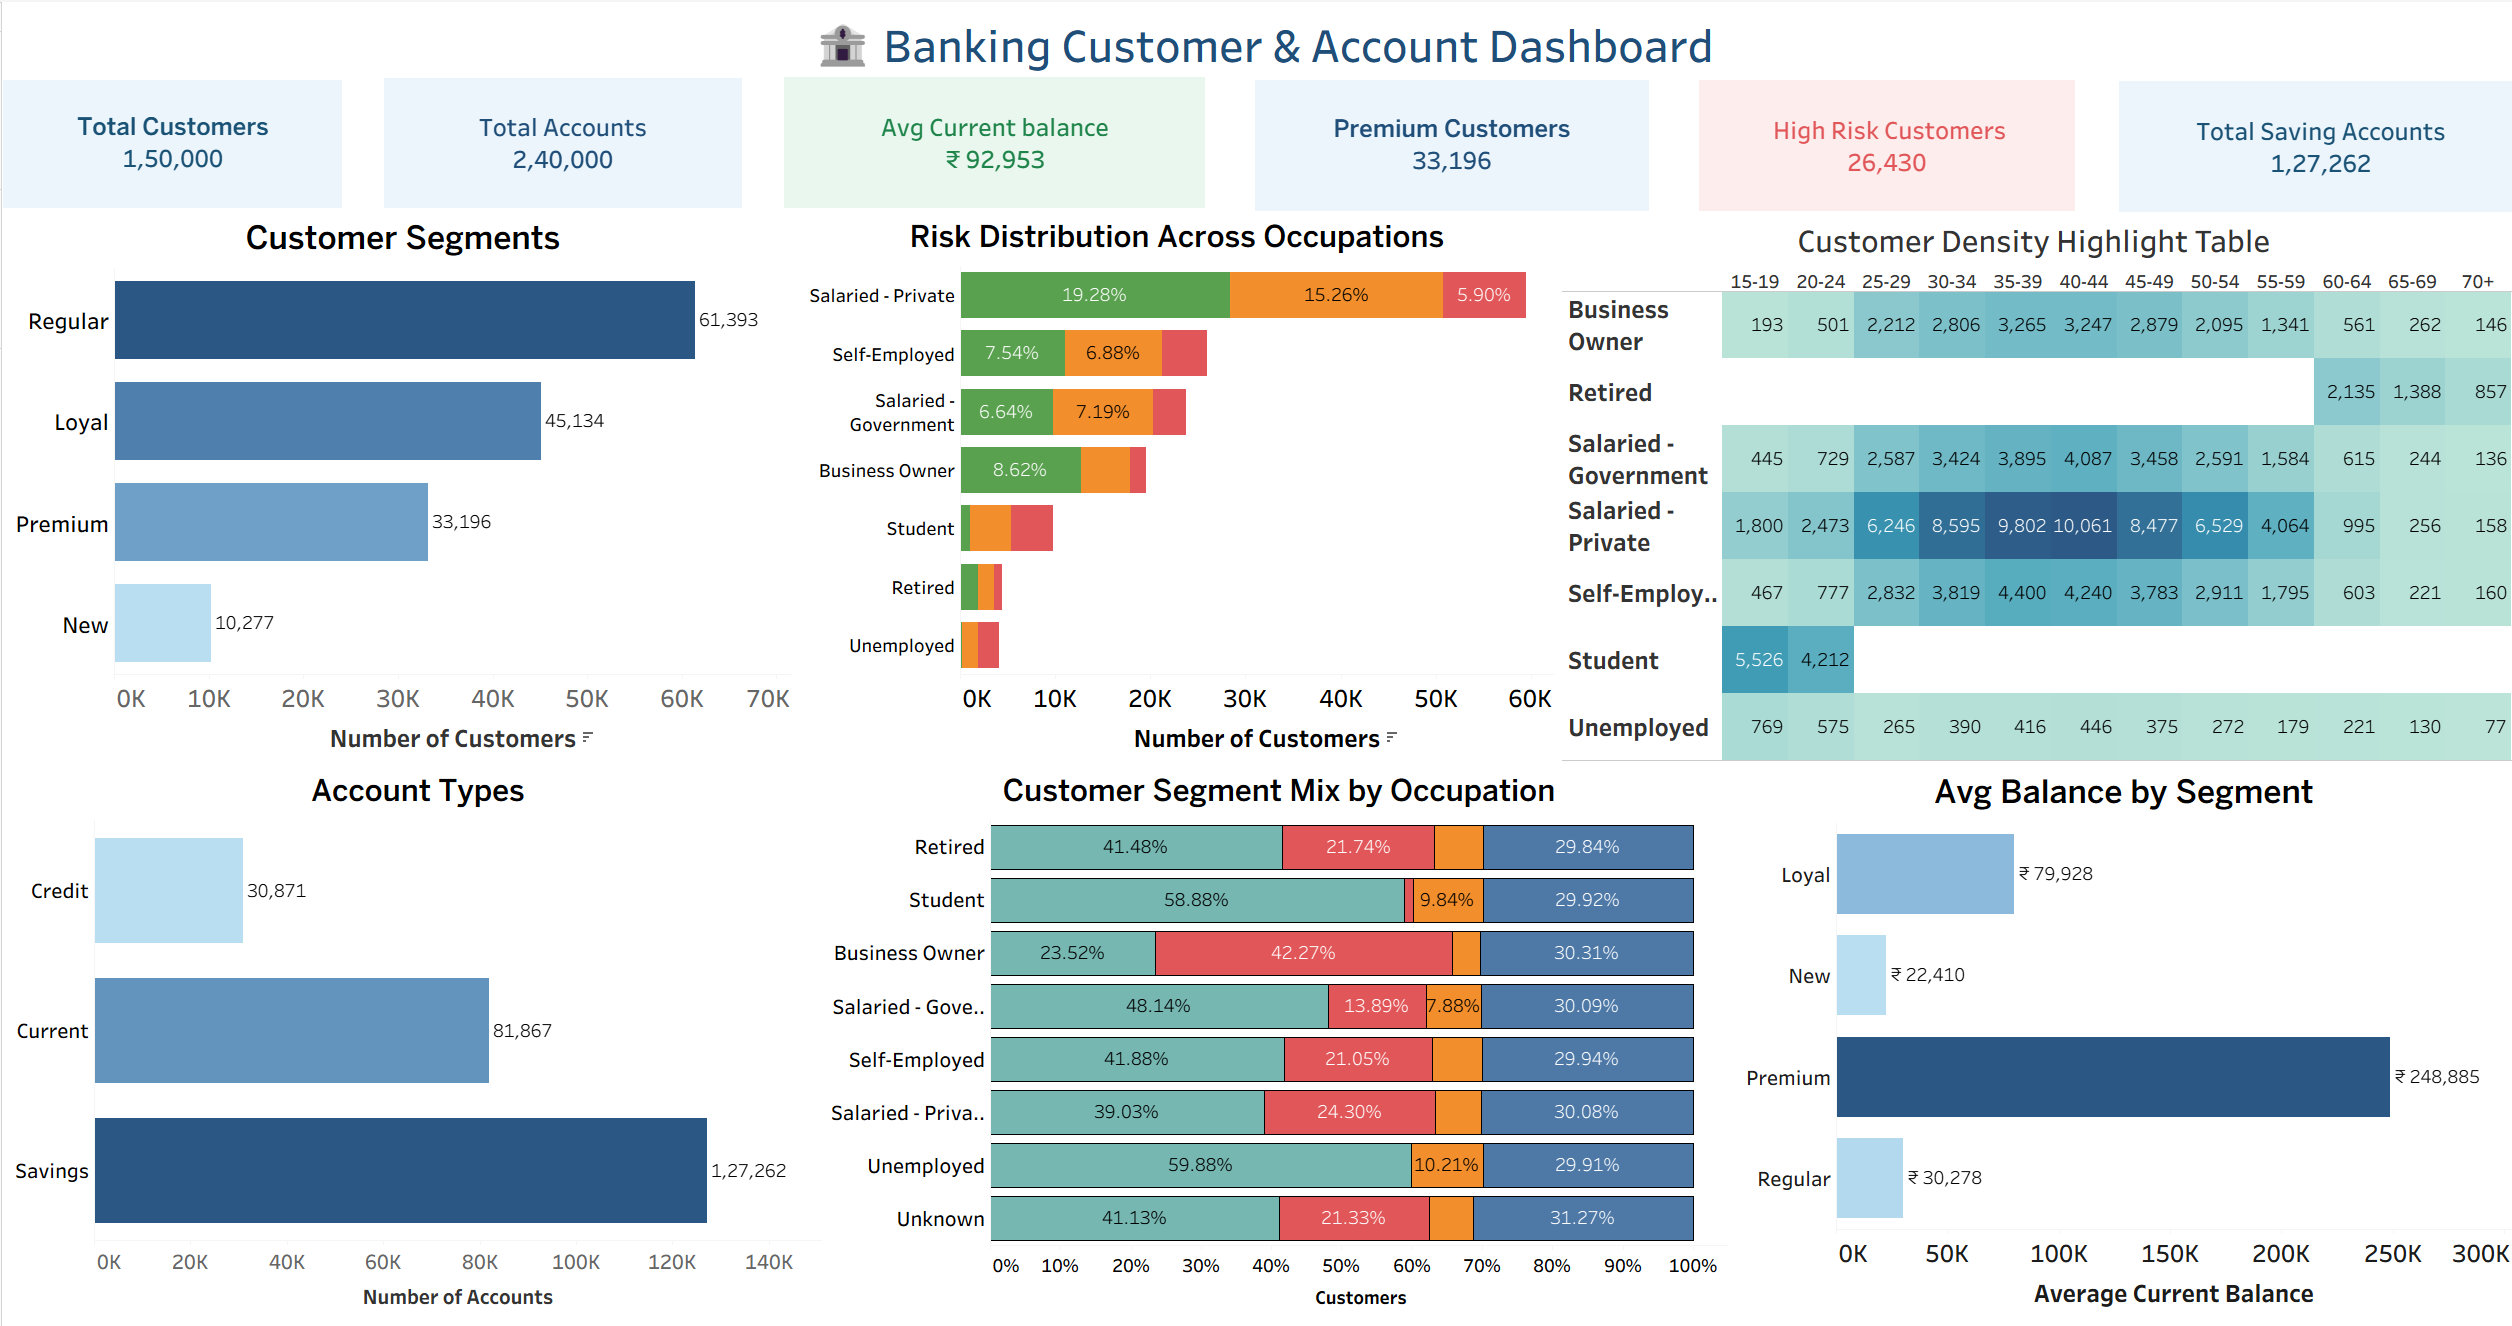

The dashboard page shown, as its layout file describes it:
{"tool":"tableau","page":{"name":"Dashboard 1","canvas":[1000,1000],"units":"permille","ordinal":0},"visuals":[{"type":"title","box":[3.2,6,993.7,51.3]},{"type":"worksheet","title":"KPI Avg Current Balance","mark":"Text","box":[309.9,56.6,167.2,98.8]},{"type":"worksheet","title":"KPI Total Accoumts","mark":"Text","box":[151.5,57.3,141.8,98]},{"type":"worksheet","title":"KPI - Total Customers","mark":"Text","box":[0.5,58.8,134.4,96.5]},{"type":"worksheet","title":"KPI Premium Customers","mark":"Text","box":[497,58.8,156.1,98.8]},{"type":"worksheet","title":"KPI High Risk Customers","mark":"Text","box":[673,58.8,149.2,98.8]},{"type":"worksheet","title":"KPI - Total Savings Accounts","mark":"Text","box":[839.3,59.6,159.8,98.8]},{"type":"worksheet","title":"Customer Segment Distribution","mark":"Automatic","rows":["customer_segment"],"cols":["customer_id (dim_customers.csv)"],"box":[3.2,157.6,311.7,418]},{"type":"worksheet","title":"Risk Category by Occupation","mark":"Bar","rows":["occupation"],"cols":["customer_id (dim_customers.csv)"],"box":[314.8,157.6,302.2,418]},{"type":"worksheet","title":"Customer Density Highlight Table ","mark":"Square","rows":["occupation"],"cols":["Calculation_1958522702905345"],"box":[617,157.6,379.8,418]},{"type":"worksheet","title":"Account Type Distribution","mark":"Automatic","rows":["account_type"],"cols":["account_id (dim_accounts.csv)"],"box":[3.2,575.6,323.7,418.3]},{"type":"worksheet","title":"Customer Occupation Distribution","mark":"Automatic","rows":["occupation"],"box":[326.9,575.6,359.2,418.3]},{"type":"worksheet","title":"Average Account Balance by Customer Segment","mark":"Automatic","rows":["customer_segment"],"cols":["current_balance"],"box":[686,575.6,310.8,418.3]}]}

Visuals, with their boxes on the dashboard's canvas, which has no fixed pixel size, in thousandths of its width and height (x1, y1, x2, y2). These are canvas units, not pixel positions in the 2512x1326 screenshot, which may show the page scaled, cropped or inside an application window:
title: {"left": 3, "top": 6, "right": 997, "bottom": 57}
"KPI Avg Current Balance" worksheet (Text marks): {"left": 310, "top": 57, "right": 477, "bottom": 155}
"KPI Total Accoumts" worksheet (Text marks): {"left": 152, "top": 57, "right": 293, "bottom": 155}
"KPI - Total Customers" worksheet (Text marks): {"left": 0, "top": 59, "right": 135, "bottom": 155}
"KPI Premium Customers" worksheet (Text marks): {"left": 497, "top": 59, "right": 653, "bottom": 158}
"KPI High Risk Customers" worksheet (Text marks): {"left": 673, "top": 59, "right": 822, "bottom": 158}
"KPI - Total Savings Accounts" worksheet (Text marks): {"left": 839, "top": 60, "right": 999, "bottom": 158}
"Customer Segment Distribution" worksheet: {"left": 3, "top": 158, "right": 315, "bottom": 576}
"Risk Category by Occupation" worksheet (Bar marks): {"left": 315, "top": 158, "right": 617, "bottom": 576}
"Customer Density Highlight Table " worksheet (Square marks): {"left": 617, "top": 158, "right": 997, "bottom": 576}
"Account Type Distribution" worksheet: {"left": 3, "top": 576, "right": 327, "bottom": 994}
"Customer Occupation Distribution" worksheet: {"left": 327, "top": 576, "right": 686, "bottom": 994}
"Average Account Balance by Customer Segment" worksheet: {"left": 686, "top": 576, "right": 997, "bottom": 994}
